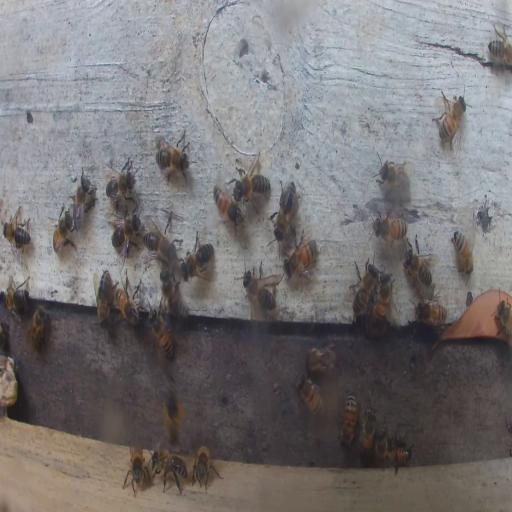nonpollenbee: (433, 89, 467, 152), (154, 131, 191, 185), (270, 179, 301, 241), (402, 234, 434, 288), (350, 254, 377, 316), (153, 449, 188, 496), (244, 265, 278, 313), (180, 233, 214, 281), (212, 183, 243, 233), (69, 169, 94, 230), (114, 275, 142, 327), (104, 158, 136, 202), (51, 203, 75, 261), (144, 220, 177, 262), (284, 237, 317, 278), (148, 308, 174, 360), (372, 156, 408, 193), (111, 211, 141, 255), (488, 18, 512, 70), (372, 272, 394, 327), (234, 169, 270, 200), (451, 228, 474, 276), (339, 390, 358, 448), (193, 444, 219, 486), (297, 375, 324, 414), (27, 303, 47, 353), (416, 298, 448, 329), (94, 270, 112, 325), (305, 343, 338, 373), (373, 213, 407, 242), (160, 269, 180, 317), (2, 279, 29, 314), (3, 213, 31, 246), (359, 406, 376, 458), (492, 300, 512, 344), (125, 452, 145, 492), (385, 444, 411, 467), (376, 424, 388, 466), (0, 324, 7, 346)
pollenbee: (161, 373, 184, 448)
